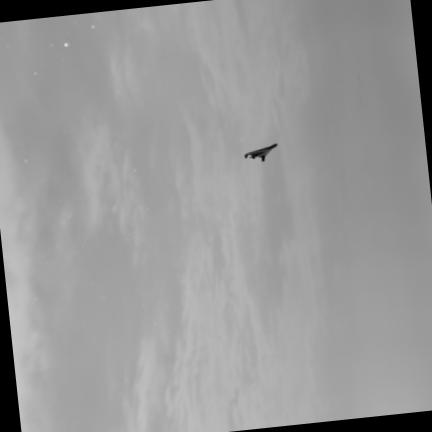Shahed: (244, 143, 278, 161)
